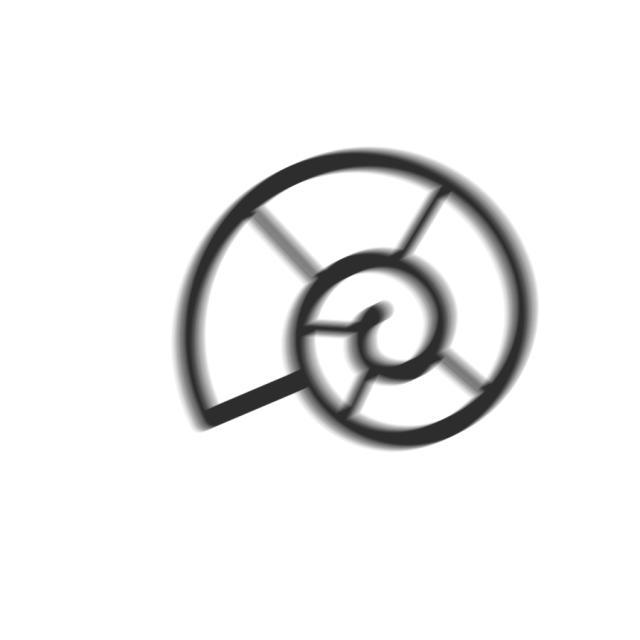fossil: (168, 145, 544, 457)
